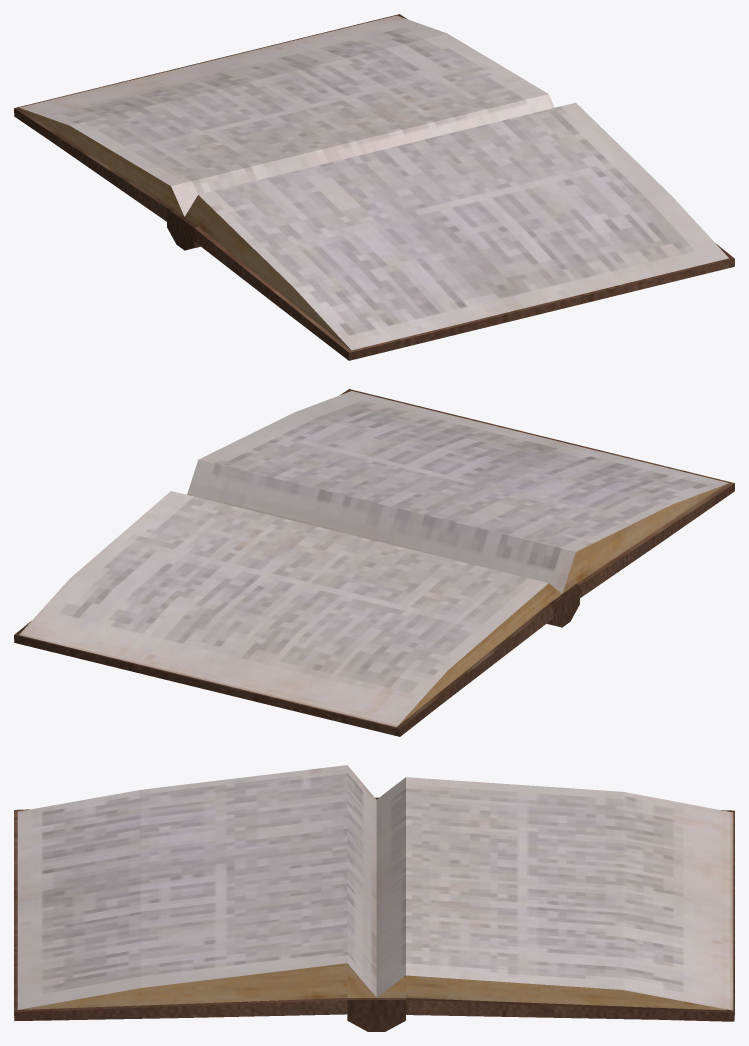
Rendered from bible.fbx.
3 renders of one model, top to bottom at view 1: azimuth 30°, elevation 25°; view 2: azimuth 150°, elevation 25°; view 3: azimuth 270°, elevation 25°, orthographic. The views are drawn at different scales.
Parts seen in each view (by area): view 1: bible; view 2: bible; view 3: bible.
Boxes of the visible parts, bbox=[...] form: bible: bbox=[14, 14, 734, 360]; bible: bbox=[14, 389, 734, 736]; bible: bbox=[14, 765, 734, 1031].
Size of the model in its own units: 197 by 30.22 by 297.
